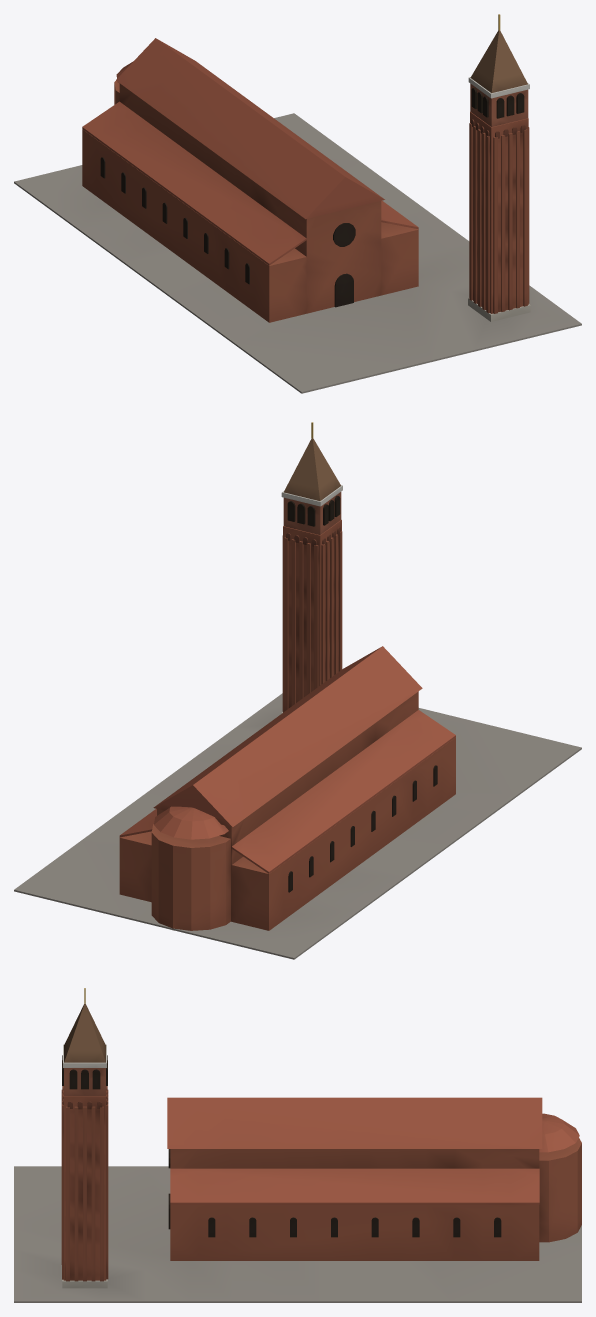
The model's file is san-pietro-old.glb.
3 views of the same model, one above another, from view 1: azimuth 30°, elevation 25°; view 2: azimuth 150°, elevation 25°; view 3: azimuth 270°, elevation 25° (orthographic).
Visible parts, largest first — view 1: p0_walls, p1_roofs, p2_campanile; view 2: p0_walls, p1_roofs, p2_campanile; view 3: p0_walls, p1_roofs, p2_campanile.
Part boxes in pixels (left/top/right/bottom): p0_walls: left=14, top=81, right=581, bottom=393; p1_roofs: left=82, top=38, right=418, bottom=265; p2_campanile: left=468, top=14, right=530, bottom=321; p0_walls: left=14, top=691, right=581, bottom=959; p1_roofs: left=119, top=646, right=455, bottom=873; p2_campanile: left=281, top=422, right=342, bottom=713; p0_walls: left=14, top=1138, right=581, bottom=1302; p1_roofs: left=167, top=1097, right=579, bottom=1204; p2_campanile: left=61, top=988, right=108, bottom=1288.
Size of the model in its own units: 45 by 45.43 by 80.
